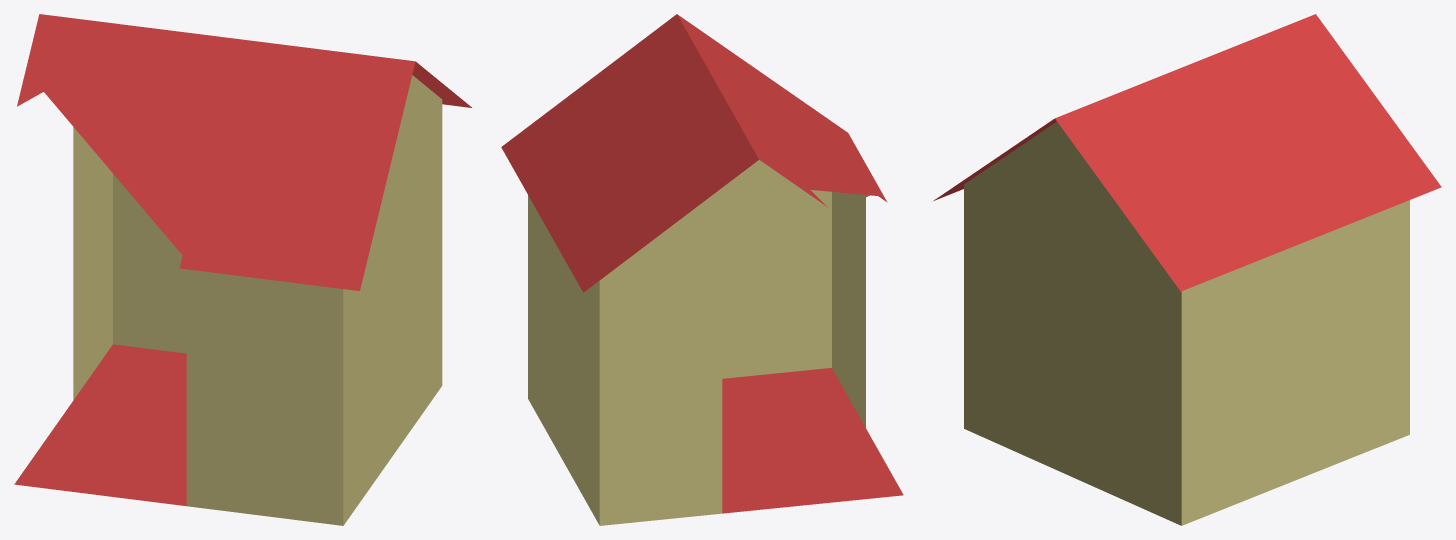
3 views of the same model, side by side, from view 1: azimuth 30°, elevation 25°; view 2: azimuth 150°, elevation 25°; view 3: azimuth 270°, elevation 25° (orthographic). The views are drawn at different scales.
Size of the model in its own units: 15.97 by 17.03 by 13.45.
